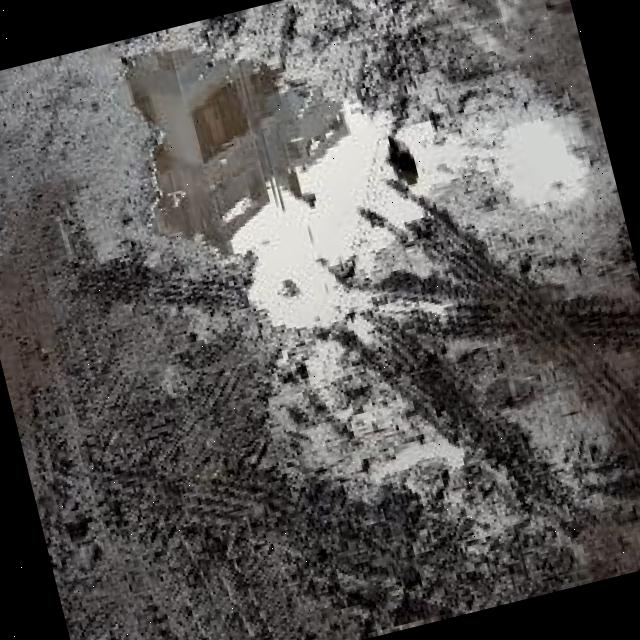waterlogging: (96, 0, 425, 373)
